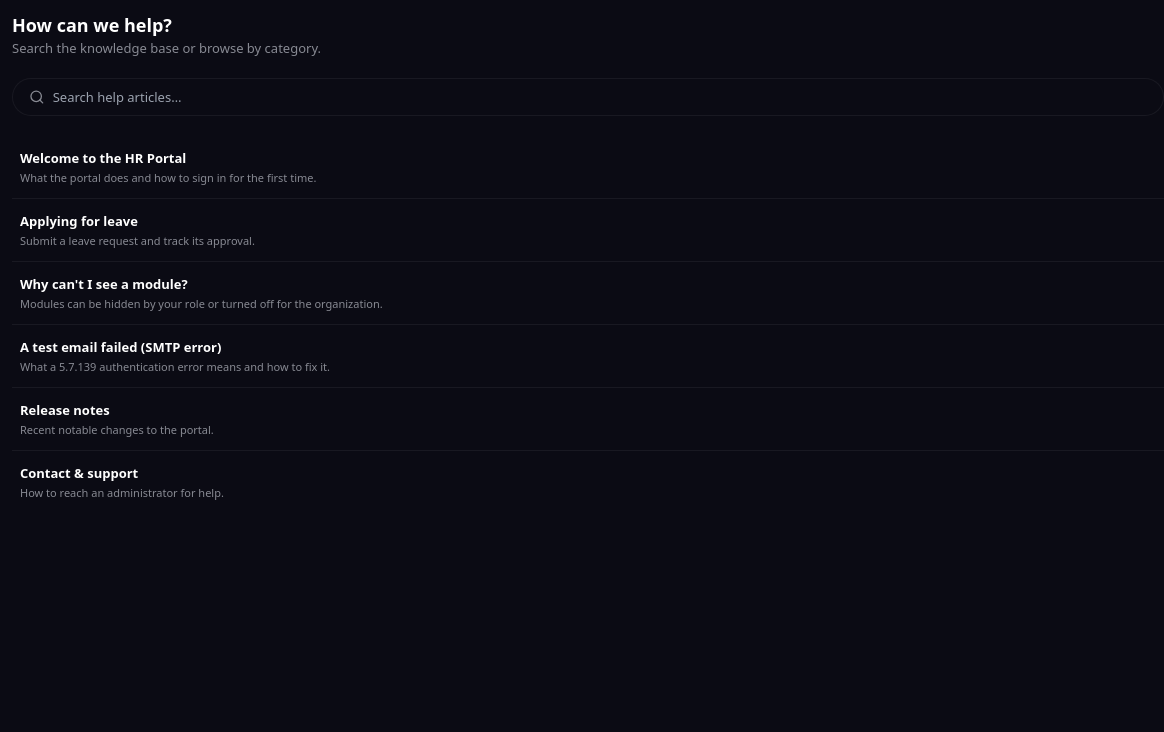
it: filters articles as you type in the search box
Expected: the text "Applying for leave" is shown, [20, 212, 138, 230]
In the search field: point(600, 97) [53, 87, 1147, 107], type "smtp"
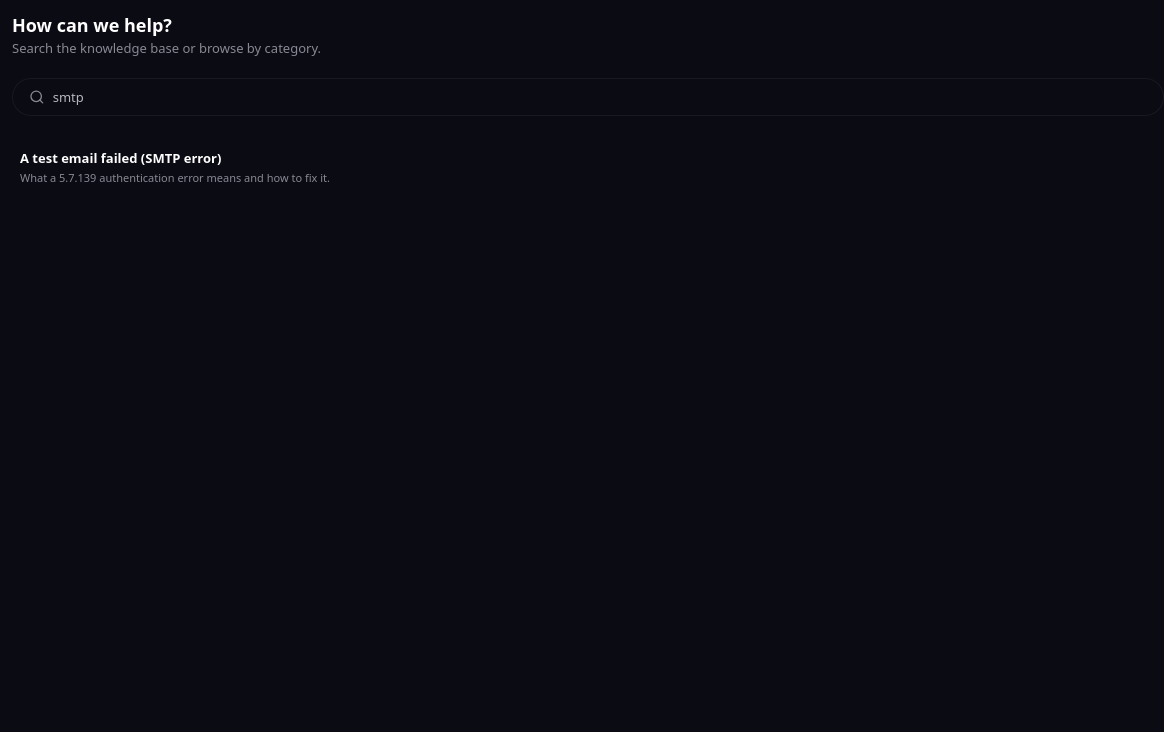
Expected: the text "A test email failed (SMTP error)" is shown, [20, 149, 221, 167]
Expected: the link "Applying for leave" is gone
